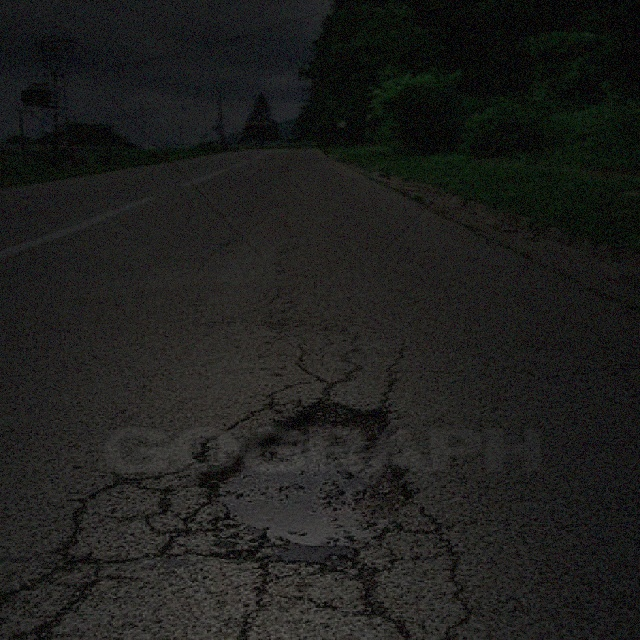pothole: (192, 396, 420, 564)
